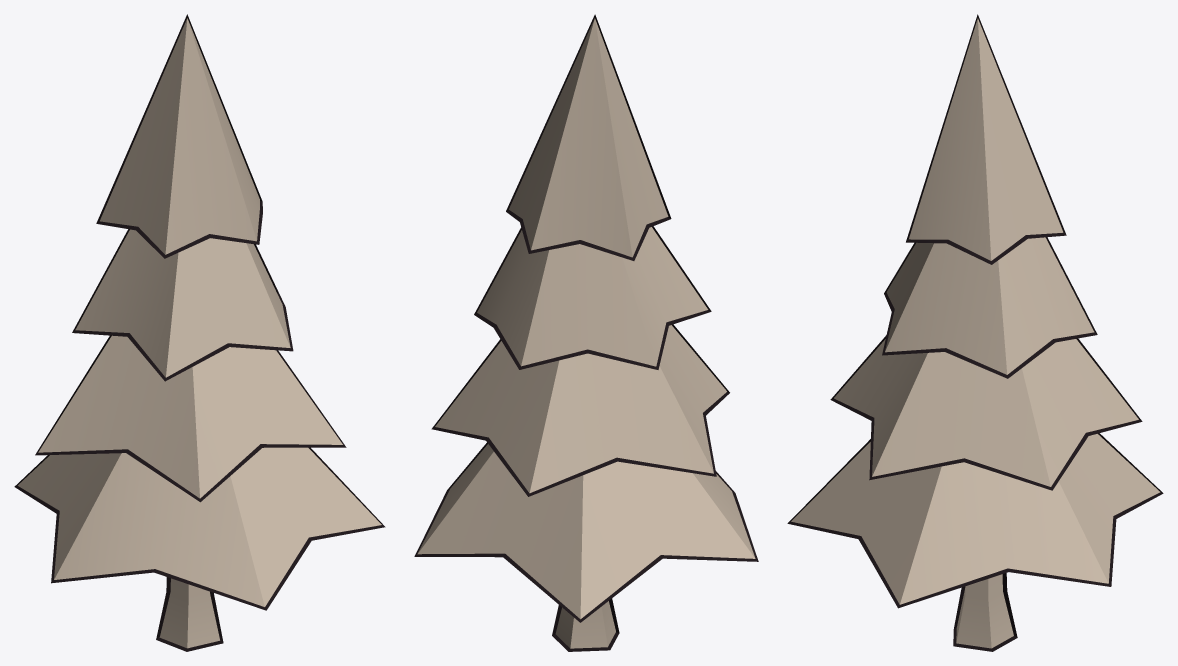
File: SM_Tree_01.fbx
The picture shows the model from 3 angles, left to right: view 1: azimuth 30°, elevation 25°; view 2: azimuth 150°, elevation 25°; view 3: azimuth 270°, elevation 25°; orthographic projection.
Visible parts, largest first — view 1: SM_Tree_01; view 2: SM_Tree_01; view 3: SM_Tree_01.
Part boxes in pixels (x1,y1,x2,y2): SM_Tree_01: (14,14,385,651); SM_Tree_01: (414,14,758,651); SM_Tree_01: (787,14,1163,651).
Bounding box in the file's own units: 2.89 × 5.6 × 3.08.
